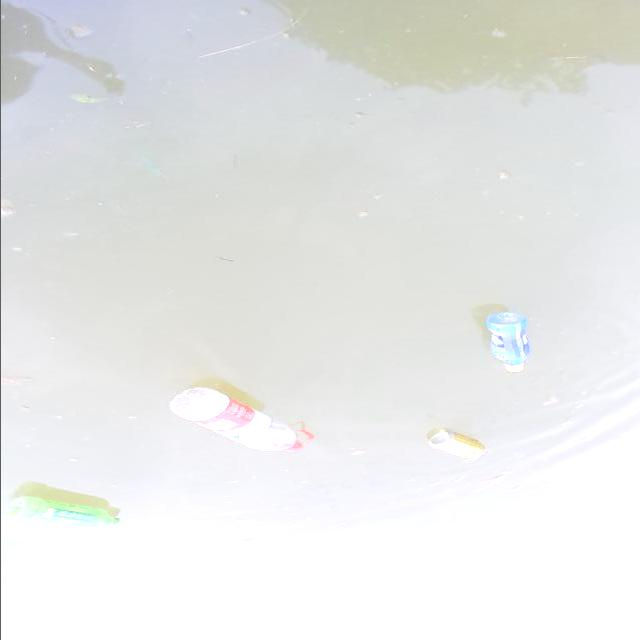bottle: (152, 369, 346, 471), (7, 468, 138, 544), (472, 302, 542, 384)
